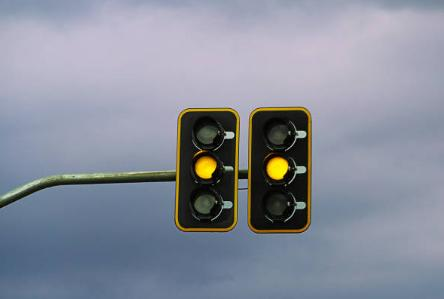yellow_light: (248, 107, 312, 233), (175, 108, 240, 232)
